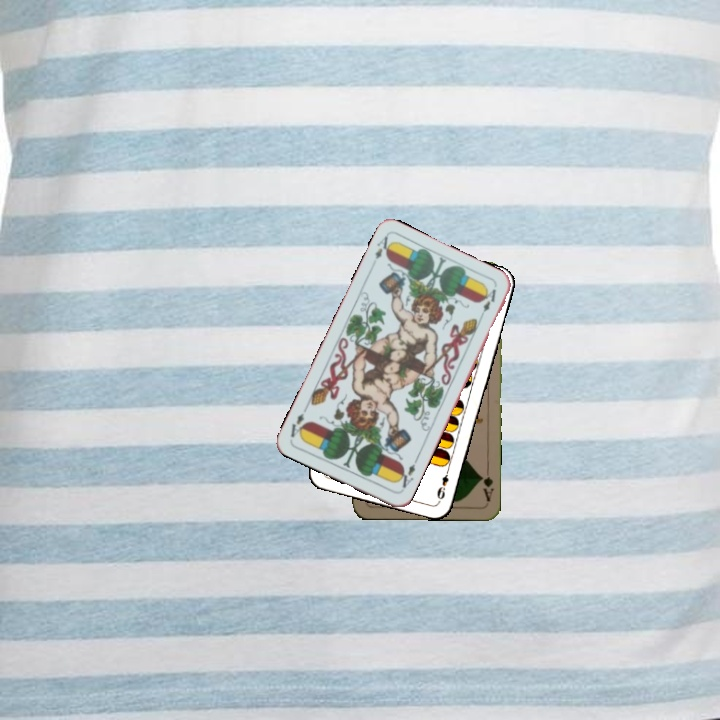E9: (433, 464, 452, 504)
EA: (393, 455, 420, 493), (371, 232, 395, 262)
GA: (476, 464, 496, 504)
